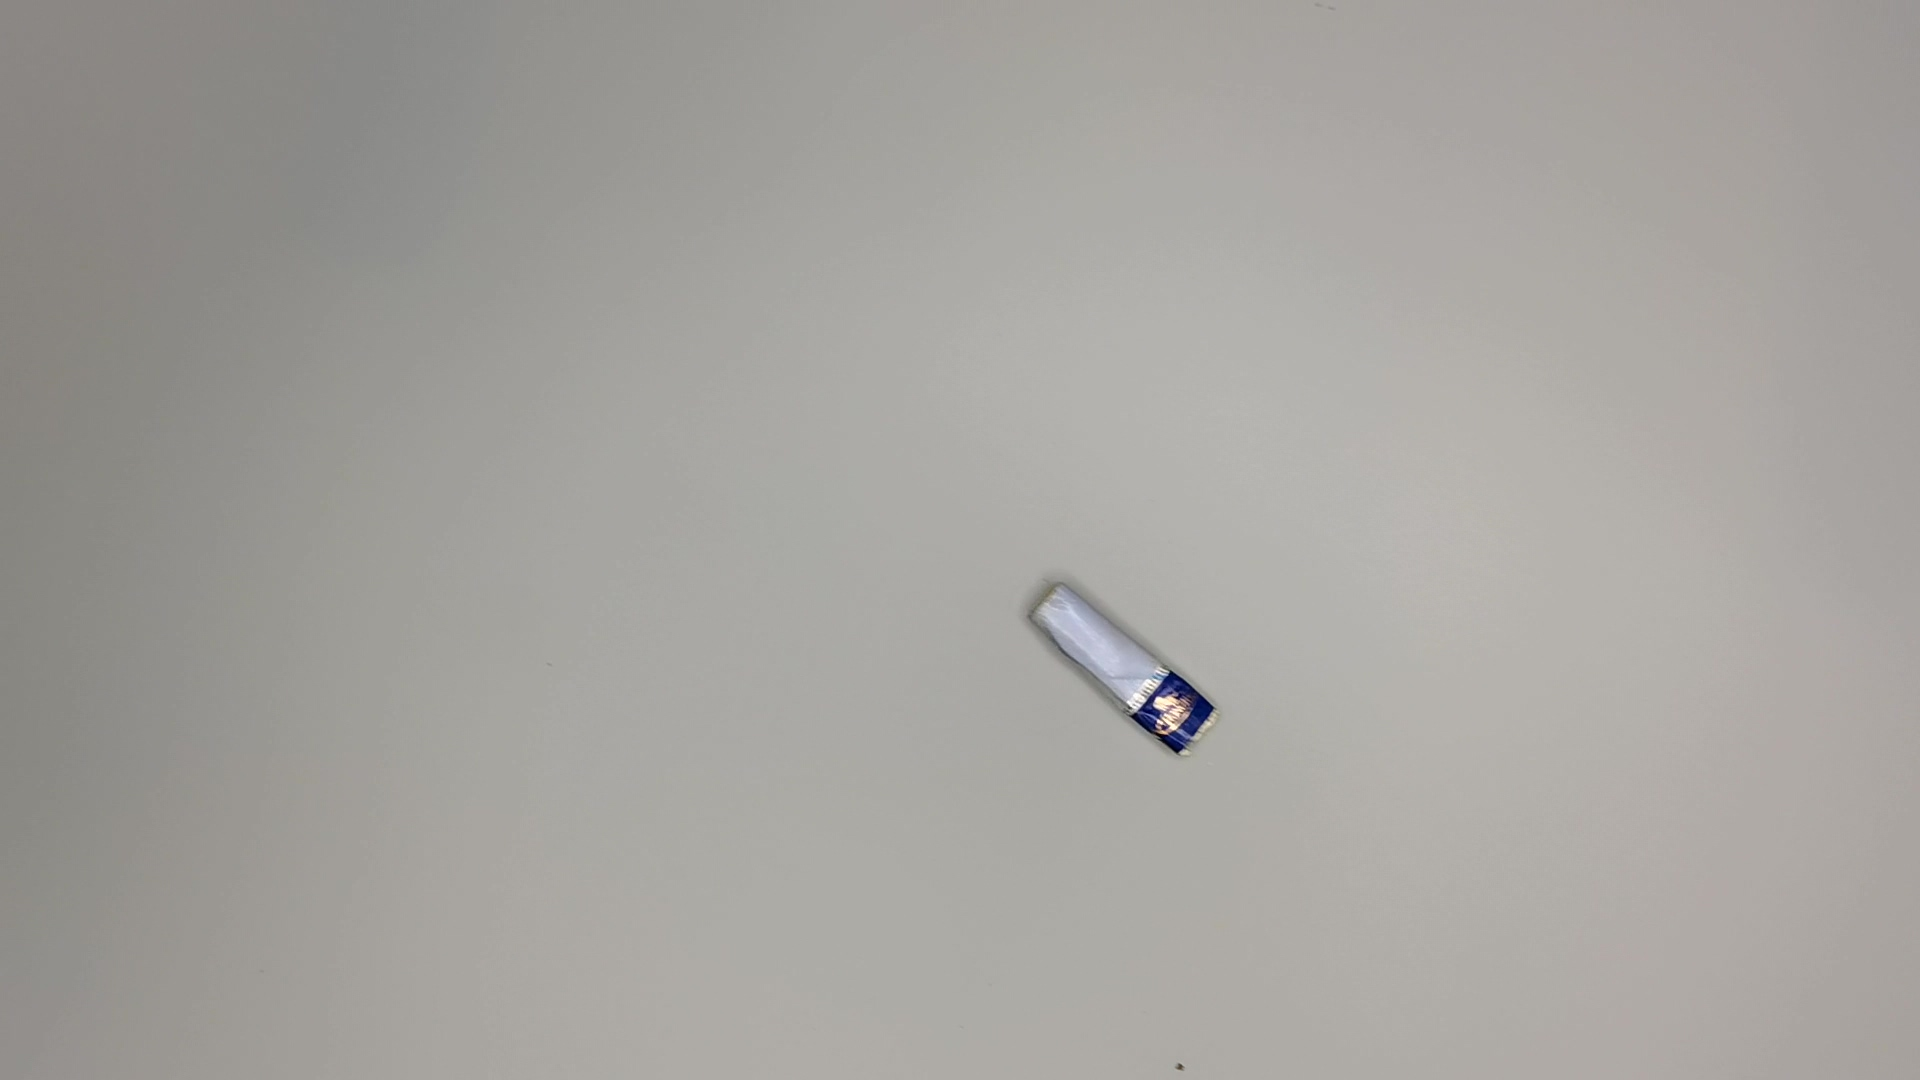cigarette: (1022, 579, 1225, 769)
